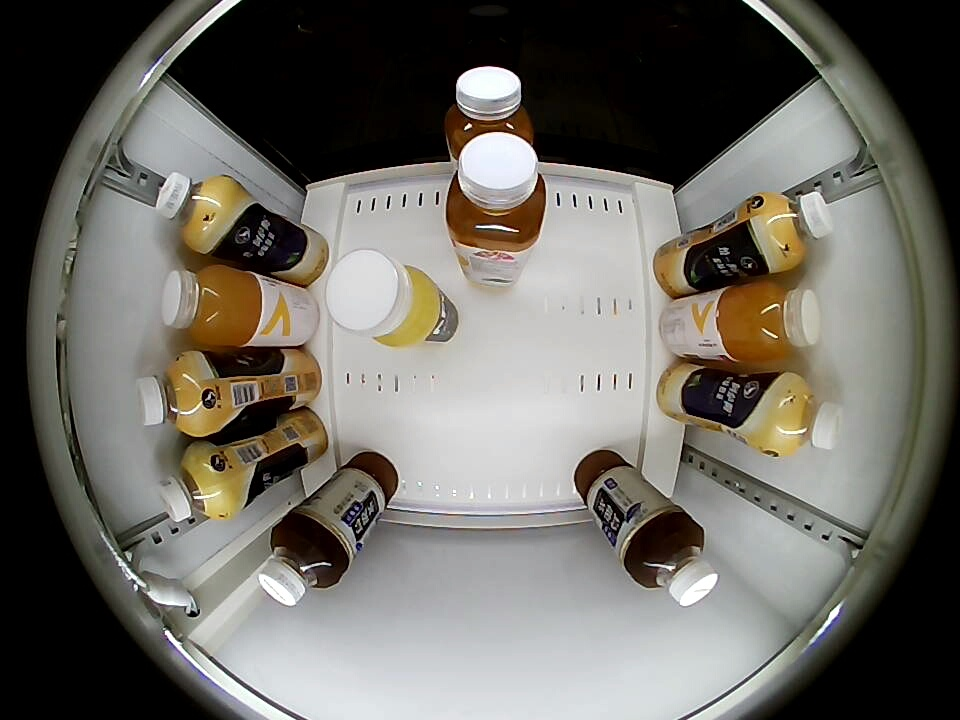asamu: (763, 373, 843, 458), (135, 353, 216, 436), (754, 190, 834, 269), (156, 172, 236, 249), (158, 448, 232, 523)
chapai: (443, 131, 548, 255), (444, 66, 535, 157)
nfc: (324, 248, 442, 348)
weic: (717, 281, 821, 365), (159, 265, 264, 348)
wulongcha: (627, 515, 718, 608), (257, 518, 344, 607)
